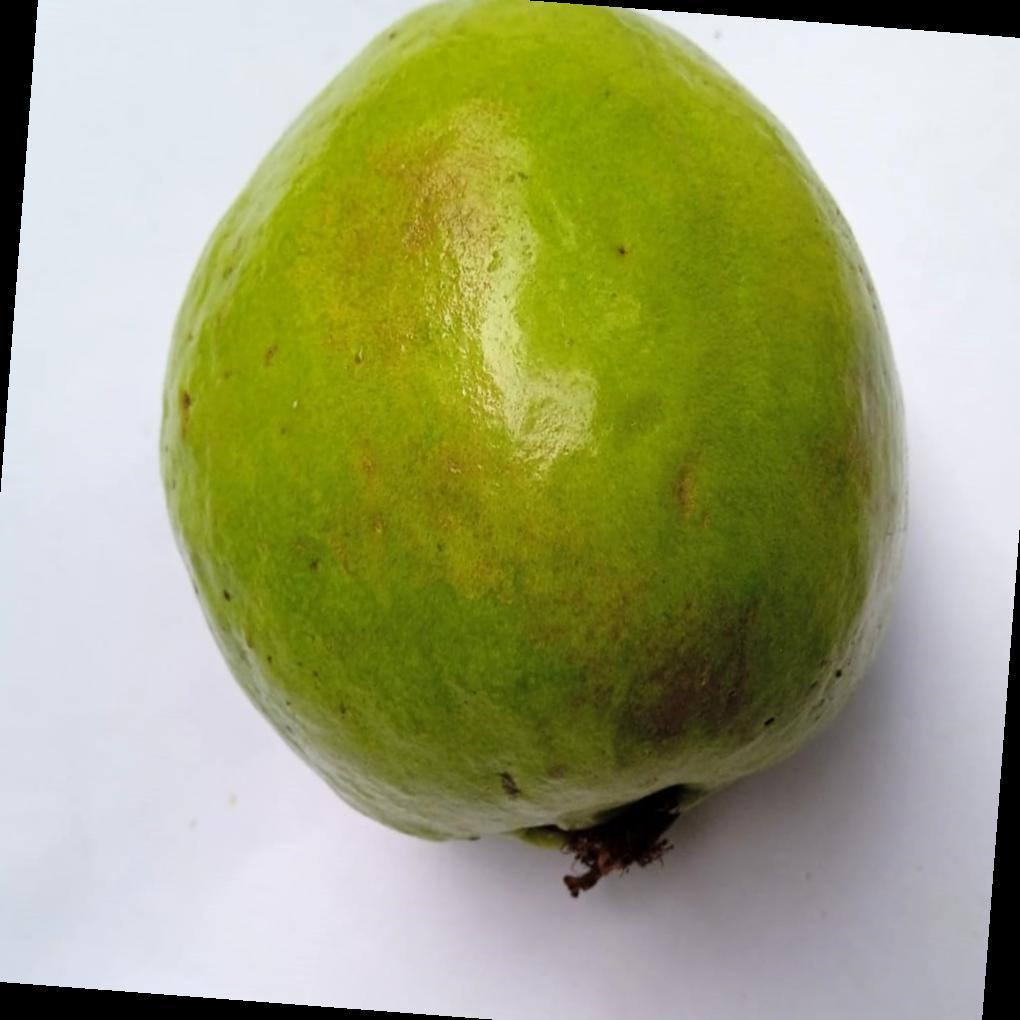FreshGuava: (156, 0, 910, 895)
